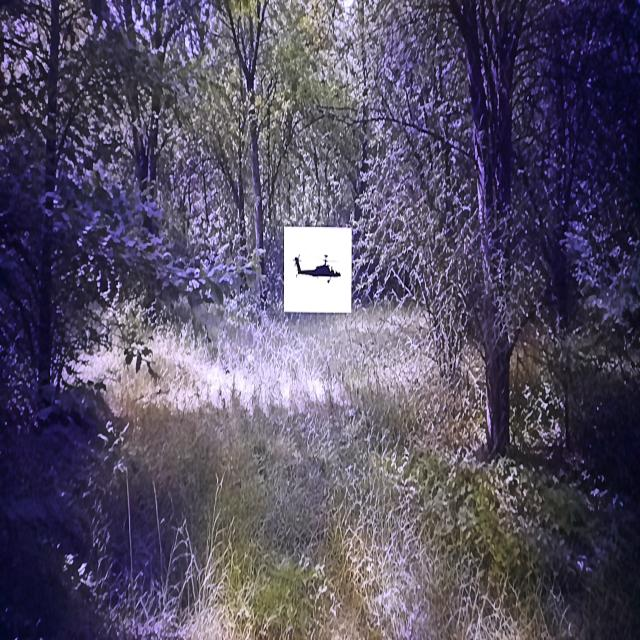Apache friendly: (293, 255, 340, 277)
